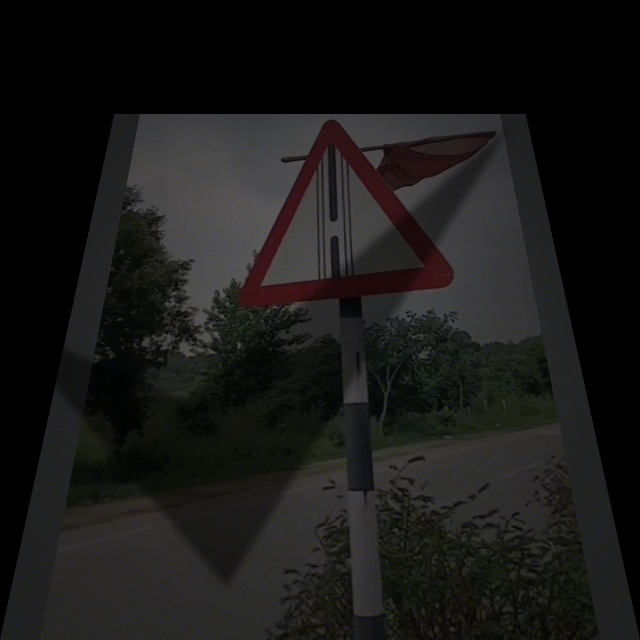Gap_in_Median: (242, 125, 455, 299)
